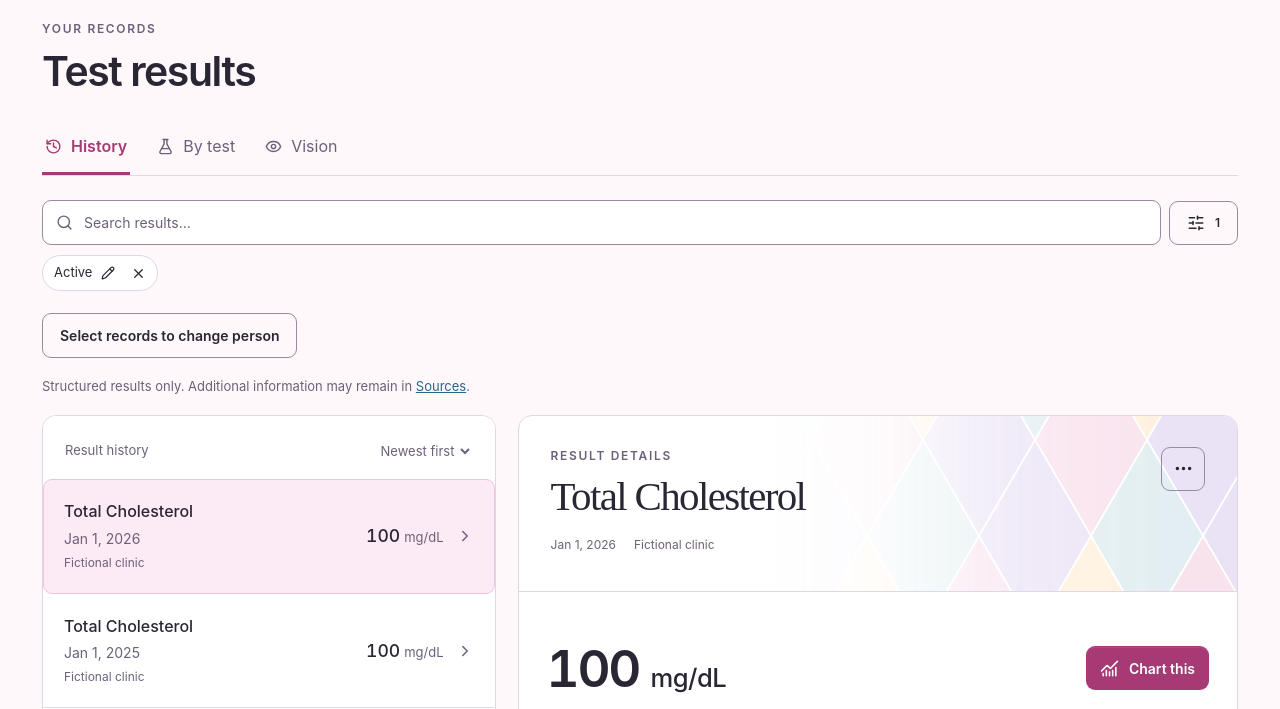
Test case: Test Results comparison navigation › offers correction for an individual saved result
Expected: the heading "Total Cholesterol" is shown, [551, 474, 805, 520]
Click the button named "More entry actions": coordinates (1183, 469) [1161, 447, 1205, 491]
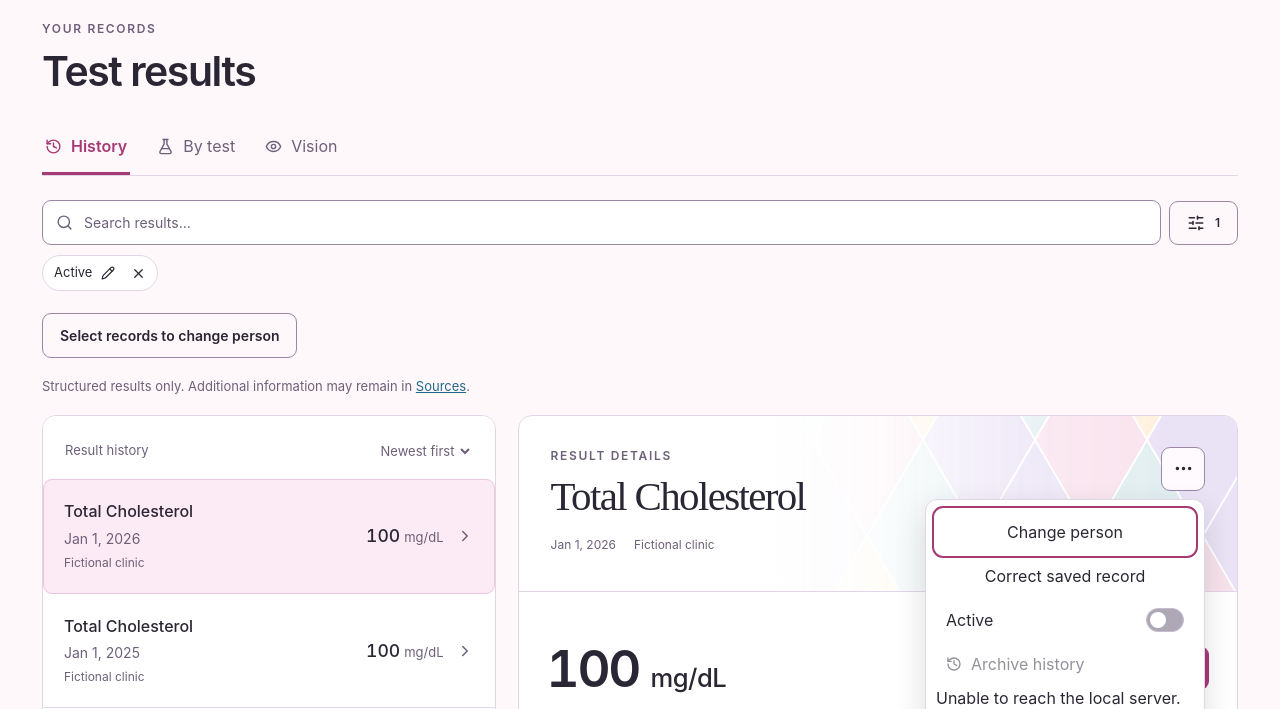
Result: the number of buttons "Change person" is 1 at [936, 510, 1194, 554]
Result: the button "Correct saved record" is shown at [936, 554, 1194, 598]
